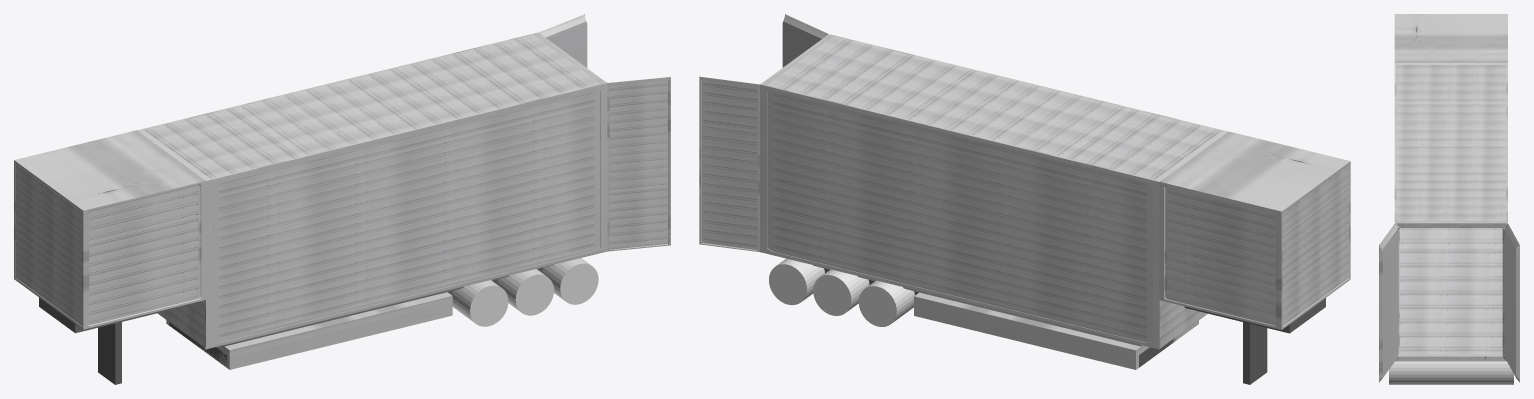
The model's file is Truck.fbx.
3 renders of one model, left to right at view 1: azimuth 30°, elevation 25°; view 2: azimuth 150°, elevation 25°; view 3: azimuth 270°, elevation 25°, orthographic. The views are drawn at different scales.
Parts seen in each view (by area): view 1: Cube, Cylinder, Cylinder.001, Cylinder.002; view 2: Cube, Cylinder, Cylinder.001, Cylinder.002; view 3: Cube, Cylinder.002.
Part boxes in pixels (x1=…): Cube: x1=14, y1=14, x2=670, y2=384; Cylinder: x1=452, y1=280, x2=508, y2=326; Cylinder.001: x1=497, y1=269, x2=553, y2=315; Cylinder.002: x1=542, y1=258, x2=598, y2=304; Cube: x1=699, y1=14, x2=1350, y2=384; Cylinder: x1=858, y1=280, x2=914, y2=326; Cylinder.001: x1=813, y1=269, x2=869, y2=315; Cylinder.002: x1=769, y1=258, x2=824, y2=305; Cube: x1=1379, y1=14, x2=1519, y2=382; Cylinder.002: x1=1389, y1=361, x2=1513, y2=384.
Size of the model in its own units: 1061 by 370 by 273.
